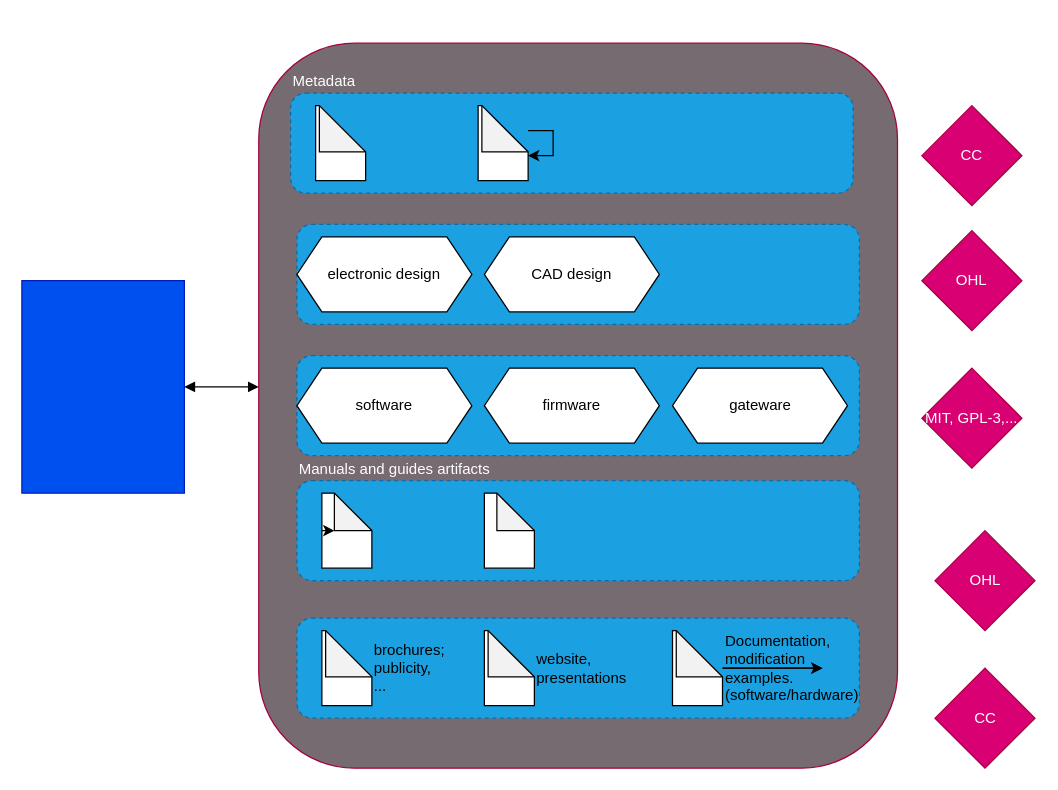
The diagram is 1058 pixels wide and 790 high, and some of its shapes have lost their labels. Each missing label, with the box of its shape:
authors information: (314, 104, 366, 181)
Code artfacts: (296, 354, 859, 456)
Dissemination files artifacts: (296, 617, 859, 718)
Hardware design arteficts: (296, 223, 859, 324)
manuals: use, repair, maintenance: (483, 492, 534, 568)
requirements assembly manuals: (321, 492, 372, 568)
Research hardware = Physical object: (21, 279, 184, 493)
tooling (software used): (477, 104, 528, 181)
